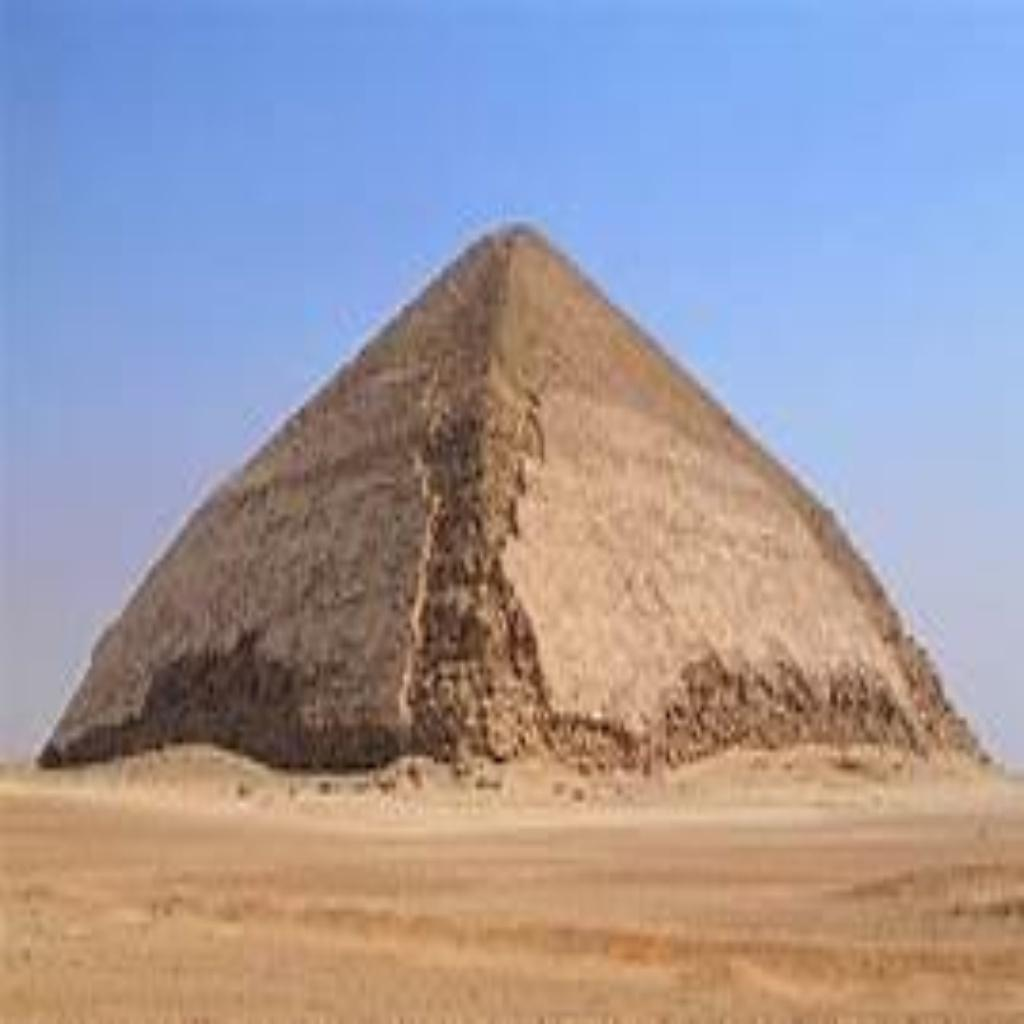Bent Pyramid of King Sneferu: (30, 210, 994, 782)
